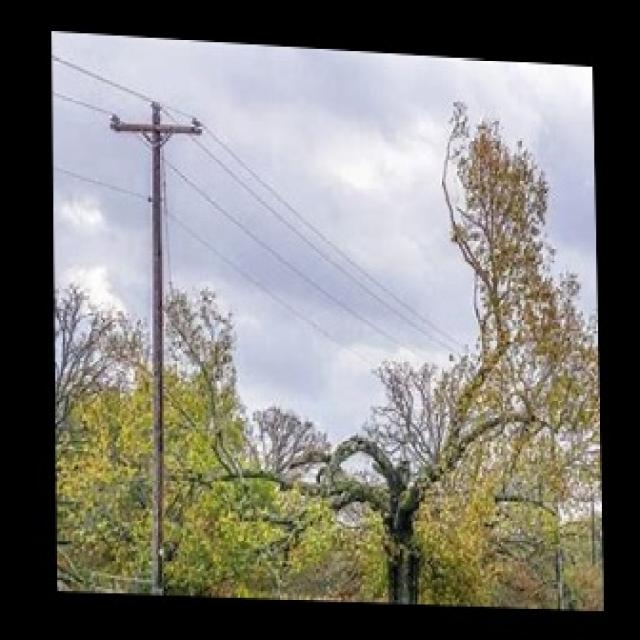utility poles: (100, 74, 217, 592)
